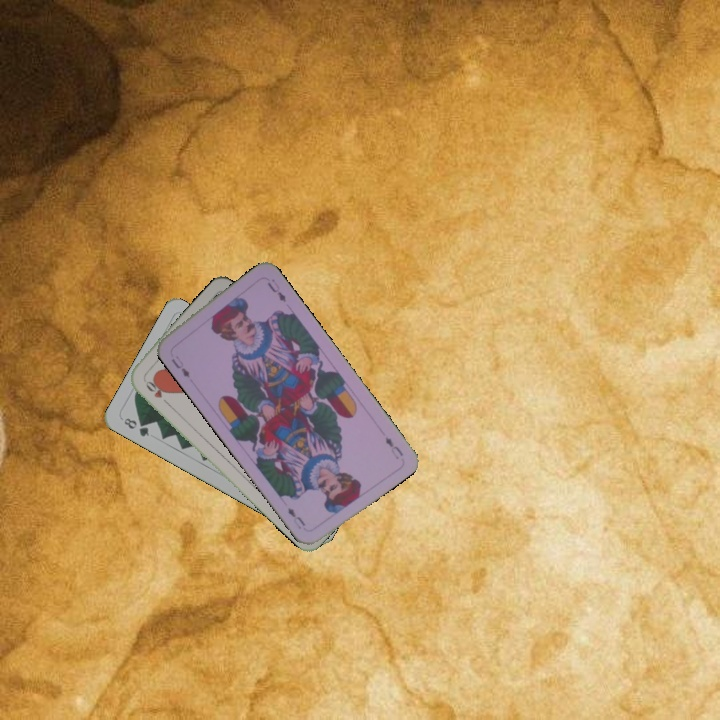EU: (381, 432, 406, 462), (167, 351, 192, 380)
G8: (120, 414, 152, 439)
HO: (140, 375, 172, 408)
